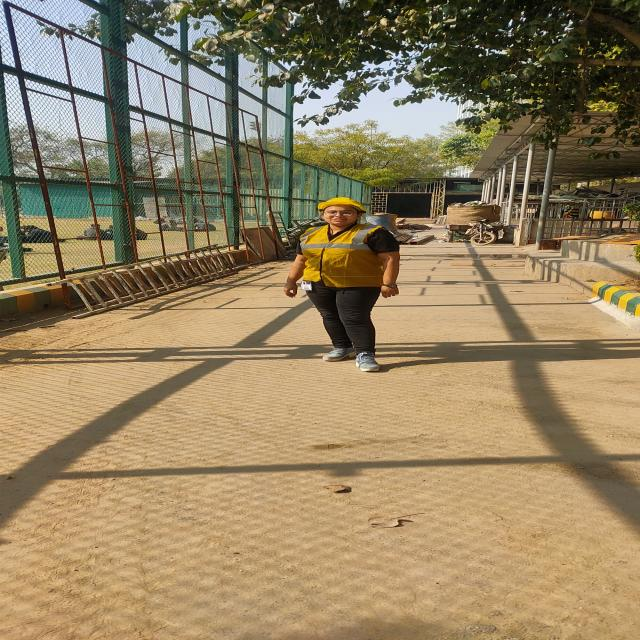safe: (284, 197, 400, 372)
